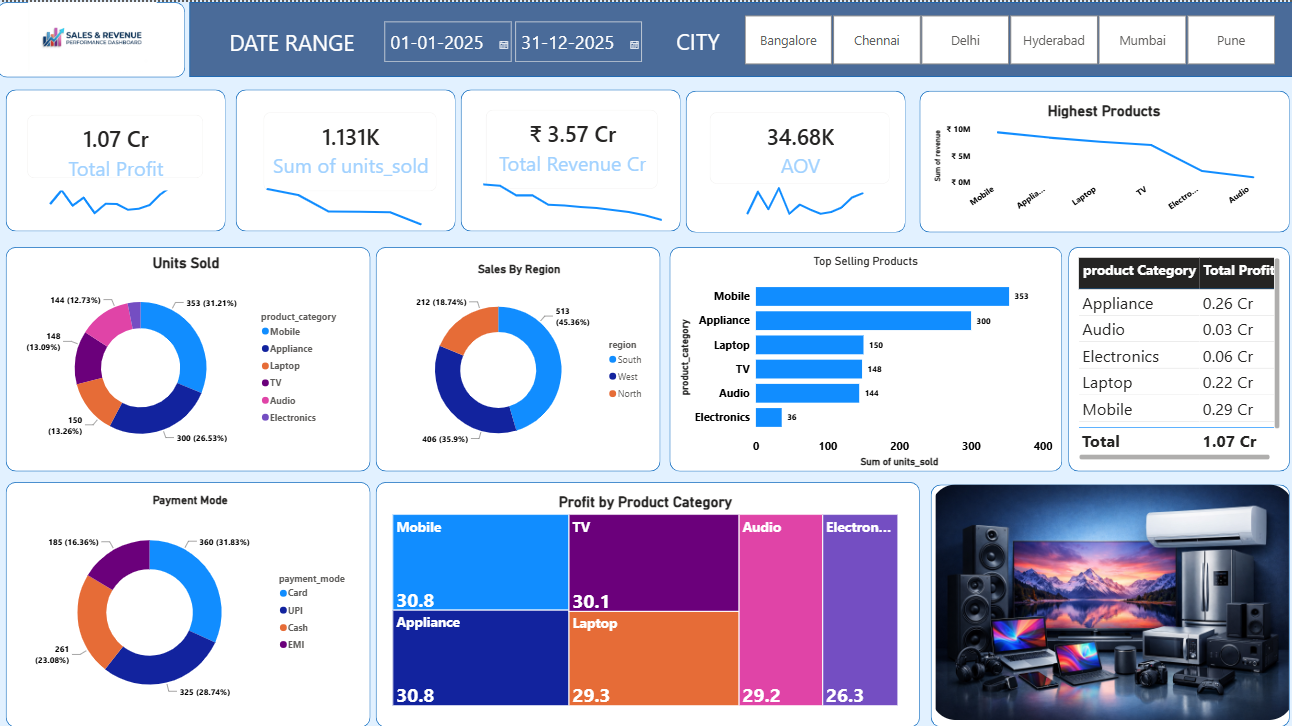

The dashboard page shown, as its layout file describes it:
{"tool":"powerbi","page":{"name":"Page 1","canvas":[1920,1080],"ordinal":0},"visuals":[{"type":"textbox","box":[46.6,129,51.9,87.8],"z":0},{"type":"shape","box":[282.5,0,1638,110.1],"z":1000},{"type":"slicer","fields":{"Values":["bajaj_dataset bajaj_dataset_2025.Date"]},"box":[555.7,18.5,403.4,84.4],"z":2000},{"type":"textbox","box":[334.9,33,220.4,53.8],"z":3000},{"type":"slicer","fields":{"Values":["bajaj_dataset bajaj_dataset_2025.city"]},"box":[1070.5,12.1,827.6,85],"z":4000},{"type":"textbox","box":[973.4,31.2,118,55.5],"z":5000},{"type":"textbox","box":[646,862,112,60],"z":6000},{"type":"textbox","box":[646,1020,26,44],"z":7000},{"type":"textbox","box":[906,862,136,60],"z":8000},{"type":"textbox","box":[906,1020,272,50],"z":9000},{"type":"textbox","box":[1162,1020,58,60],"z":10000},{"type":"textbox","box":[1292,1020,126,60],"z":11000},{"type":"shape","box":[12.3,127.6,322.7,208.2],"z":12000},{"type":"lineChart","fields":{"Category":["bajaj_dataset bajaj_dataset_2025.MonthSort"],"Y":["Sum(bajaj_dataset bajaj_dataset_2025.revenue)"]},"box":[47.3,236.7,272.4,83.3],"z":13000},{"type":"cardVisual","fields":{"Data":["bajaj_dataset bajaj_dataset_2025.Total Profit"]},"box":[26.8,148.2,292.3,127.6],"z":14000},{"type":"shape","box":[349.9,127.6,322.7,208.2],"z":15000},{"type":"cardVisual","fields":{"Data":["Sum(bajaj_dataset bajaj_dataset_2025.units_sold)"]},"box":[374.6,144.1,288.2,150.3],"z":16000},{"type":"lineChart","fields":{"Category":["bajaj_dataset bajaj_dataset_2025.product_category"],"Y":["Sum(bajaj_dataset bajaj_dataset_2025.units_sold)"]},"box":[374.6,253.2,270.7,85],"z":17000},{"type":"shape","box":[681.3,127.6,322.7,208.2],"z":18000},{"type":"cardVisual","fields":{"Data":["bajaj_dataset bajaj_dataset_2025.Total Revenue"]},"box":[699.8,142,286.1,150.3],"z":19000},{"type":"lineChart","fields":{"Category":["bajaj_dataset bajaj_dataset_2025.Month_Year"],"Y":["Sum(bajaj_dataset bajaj_dataset_2025.profit)"]},"box":[699.8,253.2,288.2,76.2],"z":20000},{"type":"shape","box":[1010.6,129.7,322.7,208.2],"z":21000},{"type":"cardVisual","fields":{"Data":["bajaj_dataset bajaj_dataset_2025.AOV"]},"box":[1029.2,144.1,298.5,140],"z":22000},{"type":"lineChart","fields":{"Category":["bajaj_dataset bajaj_dataset_2025.MonthSort"],"Y":["bajaj_dataset bajaj_dataset_2025.AOV"]},"box":[1070.3,253.2,260,78],"z":23000},{"type":"shape","box":[1354.4,129.7,543.4,207.9],"z":24000},{"type":"lineChart","title":"Highest Products","fields":{"Category":["bajaj_dataset bajaj_dataset_2025.product_category"],"Y":["Sum(bajaj_dataset bajaj_dataset_2025.revenue)"]},"box":[1370.8,146.1,508.4,170.8],"z":25000},{"type":"shape","box":[12.3,360.2,535.2,329.3],"z":26000},{"type":"donutChart","title":"Units Sold","fields":{"Category":["bajaj_dataset bajaj_dataset_2025.product_category"],"Y":["Sum(bajaj_dataset bajaj_dataset_2025.units_sold)"]},"box":[28.8,370.5,496.1,306.7],"z":27000},{"type":"shape","box":[555.7,360.2,417.8,329.3],"z":28000},{"type":"donutChart","title":"Sales By Region","fields":{"Y":["Sum(bajaj_dataset bajaj_dataset_2025.units_sold)"],"Category":["bajaj_dataset bajaj_dataset_2025.region"]},"box":[568.1,380.8,395.2,296.4],"z":29000},{"type":"shape","box":[985.9,360.2,576.3,329.3],"z":30000},{"type":"clusteredBarChart","title":"Top Selling Products","fields":{"Category":["bajaj_dataset bajaj_dataset_2025.product_category"],"Y":["Sum(bajaj_dataset bajaj_dataset_2025.units_sold)"]},"box":[996.2,370.5,557.8,317],"z":31000},{"type":"shape","box":[12.3,703.9,535.2,360.2],"z":32000},{"type":"donutChart","title":"Payment Mode","fields":{"Y":["Sum(bajaj_dataset bajaj_dataset_2025.units_sold)"],"Category":["bajaj_dataset bajaj_dataset_2025.payment_mode"]},"box":[28.8,720.4,508.4,329.3],"z":33000},{"type":"shape","box":[555.7,703.9,798.6,360.2],"z":34000},{"type":"shape","box":[1572.6,360.2,325.2,329.3],"z":35000},{"type":"treemap","title":"Profit by Product Category","fields":{"Values":["bajaj_dataset bajaj_dataset_2025.Profit Margin %"],"Group":["bajaj_dataset bajaj_dataset_2025.product_category"]},"box":[576.3,720.4,751.3,317],"z":36000},{"type":"tableEx","fields":{"Values":["bajaj_dataset bajaj_dataset_2025.product_category","bajaj_dataset bajaj_dataset_2025.Total Profit"]},"box":[1580.8,370.5,306.7,306.7],"z":37000},{"type":"textbox","box":[1381.1,720.4,521.9,96.7],"z":38000},{"type":"shape","box":[1370.8,708.1,526.9,356.1],"z":39000},{"type":"image","box":[1370.8,708.1,533.1,345.8],"z":40000},{"type":"shape","box":[0,0,276.1,110.8],"z":42000},{"type":"image","box":[0,0,280.1,102.8],"z":42500}]}

Visuals, with their boxes in screenshot pixels (x1, y1, x2, y2), scaled from the page's 1920x1080 canvas onto the 1292x726 screenshot:
textbox: select_region(31, 87, 66, 146)
shape: select_region(190, 0, 1291, 74)
slicer - bajaj_dataset bajaj_dataset_2025.Date: select_region(374, 12, 645, 69)
textbox: select_region(225, 22, 374, 58)
slicer - bajaj_dataset bajaj_dataset_2025.city: select_region(720, 8, 1277, 65)
textbox: select_region(655, 21, 734, 58)
textbox: select_region(435, 579, 510, 620)
textbox: select_region(435, 686, 452, 715)
textbox: select_region(610, 579, 701, 620)
textbox: select_region(610, 686, 793, 719)
textbox: select_region(782, 686, 821, 725)
textbox: select_region(869, 686, 954, 725)
shape: select_region(8, 86, 225, 226)
lineChart - bajaj_dataset bajaj_dataset_2025.MonthSort x Sum(bajaj_dataset bajaj_dataset_2025.revenue): select_region(32, 159, 215, 215)
cardVisual - bajaj_dataset bajaj_dataset_2025.Total Profit: select_region(18, 100, 215, 185)
shape: select_region(235, 86, 453, 226)
cardVisual - Sum(bajaj_dataset bajaj_dataset_2025.units_sold): select_region(252, 97, 446, 198)
lineChart - bajaj_dataset bajaj_dataset_2025.product_category x Sum(bajaj_dataset bajaj_dataset_2025.units_sold): select_region(252, 170, 434, 227)
shape: select_region(458, 86, 676, 226)
cardVisual - bajaj_dataset bajaj_dataset_2025.Total Revenue: select_region(471, 95, 663, 196)
lineChart - bajaj_dataset bajaj_dataset_2025.Month_Year x Sum(bajaj_dataset bajaj_dataset_2025.profit): select_region(471, 170, 665, 221)
shape: select_region(680, 87, 897, 227)
cardVisual - bajaj_dataset bajaj_dataset_2025.AOV: select_region(693, 97, 893, 191)
lineChart - bajaj_dataset bajaj_dataset_2025.MonthSort x bajaj_dataset bajaj_dataset_2025.AOV: select_region(720, 170, 895, 223)
shape: select_region(911, 87, 1277, 227)
"Highest Products" lineChart: select_region(922, 98, 1265, 213)
shape: select_region(8, 242, 368, 463)
"Units Sold" donutChart: select_region(19, 249, 353, 455)
shape: select_region(374, 242, 655, 463)
"Sales By Region" donutChart: select_region(382, 256, 648, 455)
shape: select_region(663, 242, 1051, 463)
"Top Selling Products" clusteredBarChart: select_region(670, 249, 1046, 462)
shape: select_region(8, 473, 368, 715)
"Payment Mode" donutChart: select_region(19, 484, 361, 706)
shape: select_region(374, 473, 911, 715)
shape: select_region(1058, 242, 1277, 463)
"Profit by Product Category" treemap: select_region(388, 484, 893, 697)
tableEx - bajaj_dataset bajaj_dataset_2025.product_category x bajaj_dataset bajaj_dataset_2025.Total Profit: select_region(1064, 249, 1270, 455)
textbox: select_region(929, 484, 1281, 549)
shape: select_region(922, 476, 1277, 715)
image: select_region(922, 476, 1281, 708)
shape: select_region(0, 0, 186, 74)
image: select_region(0, 0, 188, 69)
